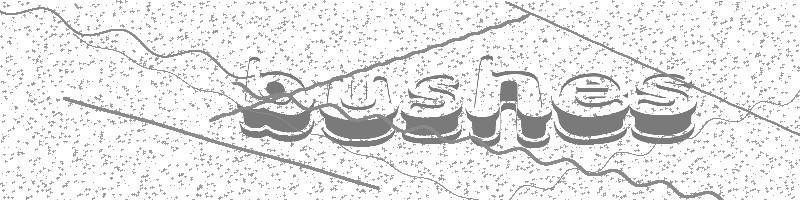b: (241, 56, 315, 143)
e: (552, 71, 629, 145)
h: (466, 55, 553, 150)
s: (631, 71, 697, 145), (401, 73, 464, 145)
u: (319, 76, 399, 148)
